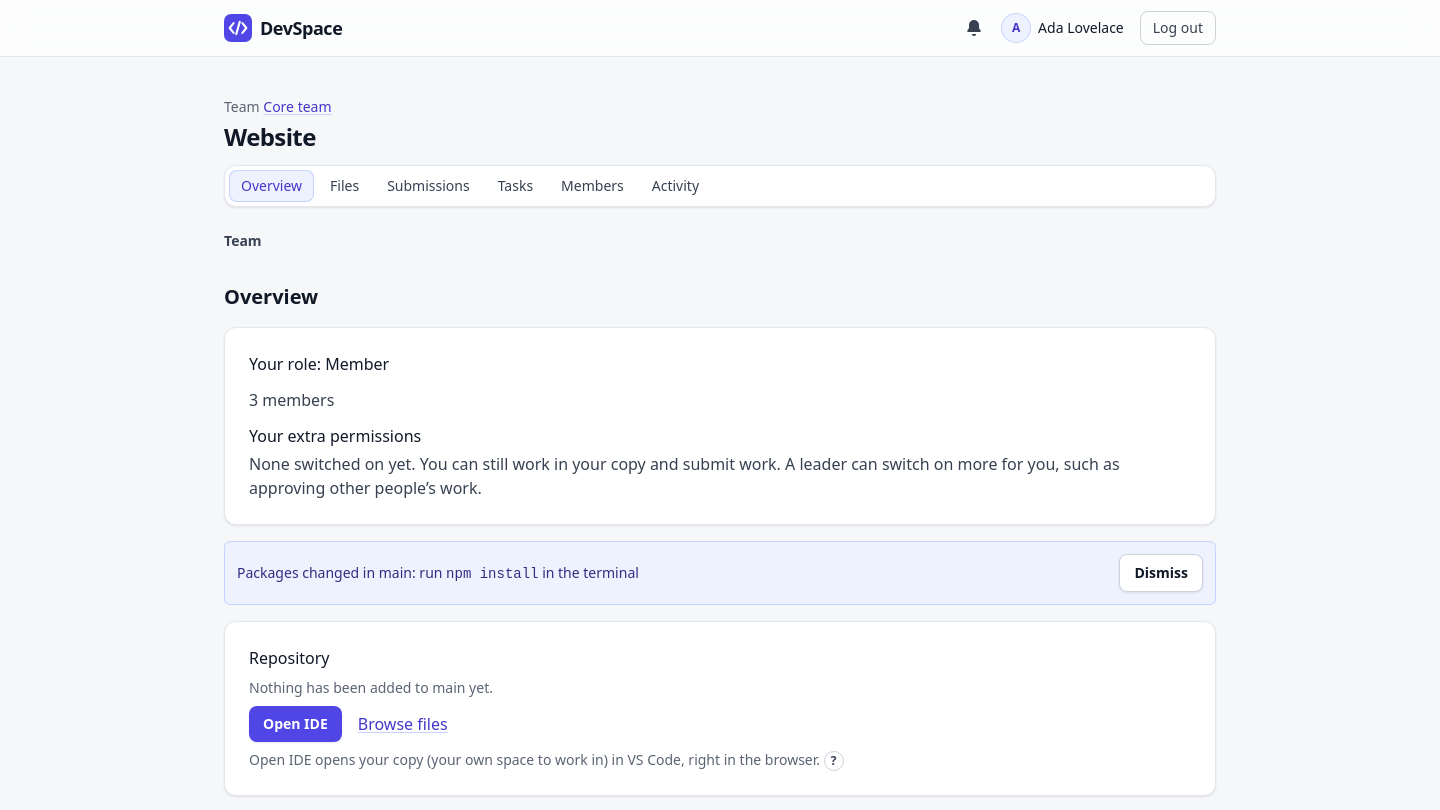
Scenario: the npm reminder › shows on the overview when packages changed, and Dismiss clears it
Expected: the text "Packages changed in main: run npm install in the terminal" is shown, [237,562,639,584]
Click the button "Dismiss" at (1161, 573), box [1120,554,1203,592]
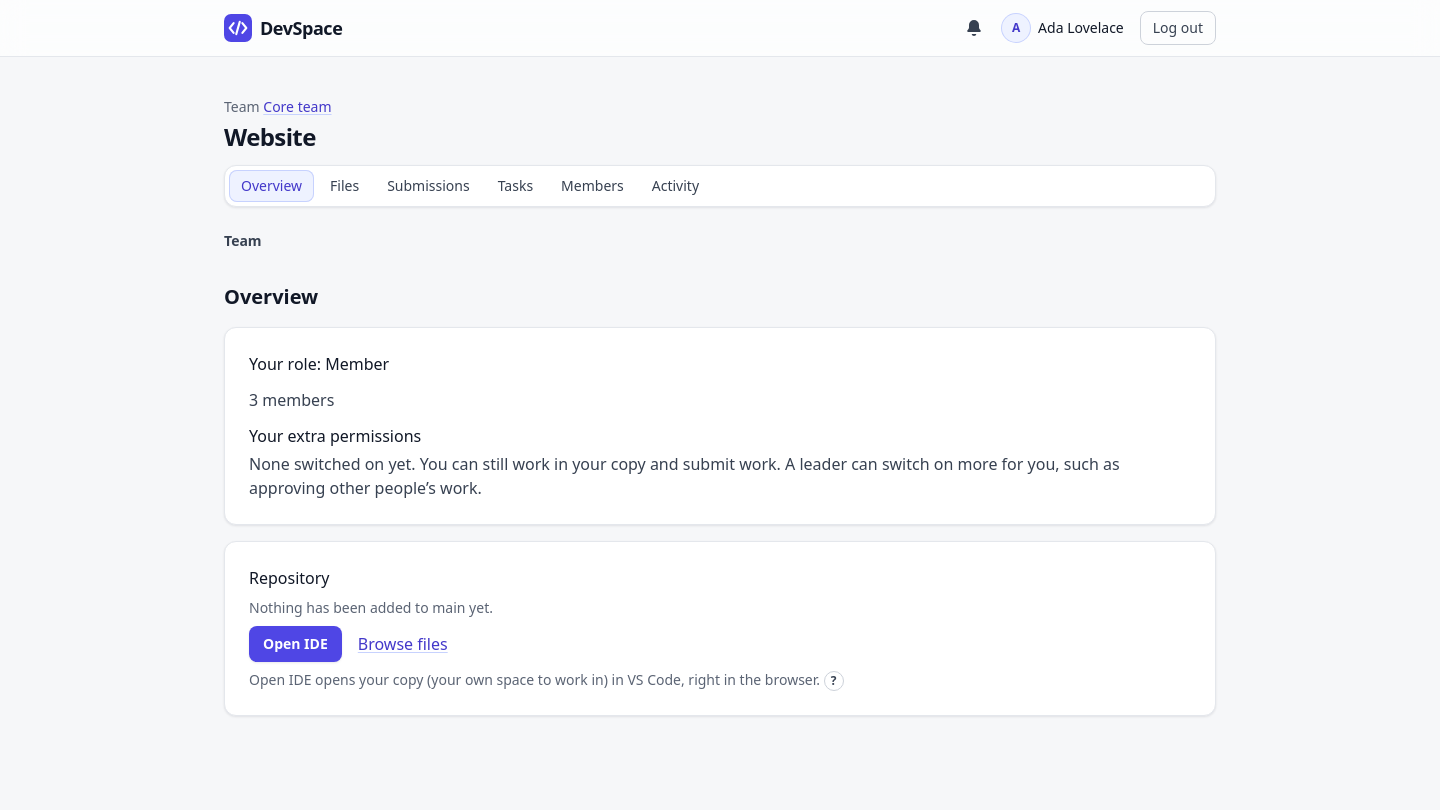
Now the text "Packages changed in main" is gone
